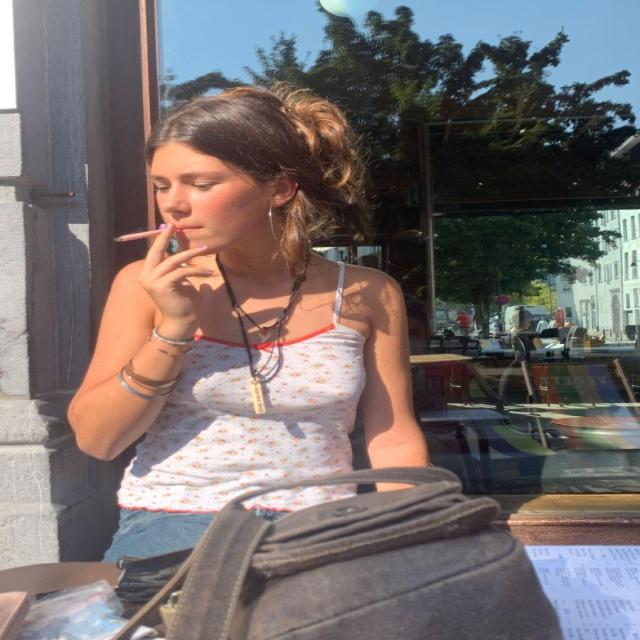cigarette: (100, 208, 184, 250)
